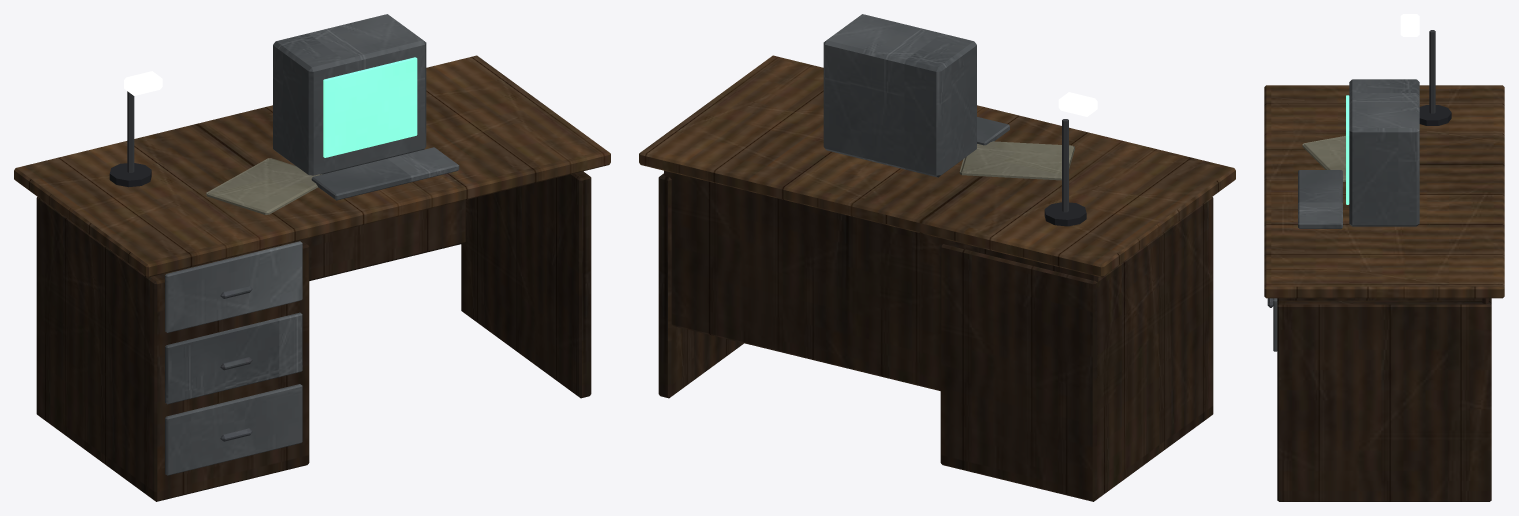
Rendered from desk_office.glb.
3 renders of one model, left to right at view 1: azimuth 30°, elevation 25°; view 2: azimuth 150°, elevation 25°; view 3: azimuth 270°, elevation 25°, orthographic. The views are drawn at different scales.
Parts seen in each view (by area): view 1: body; view 2: body; view 3: body.
Boxes of the visible parts, x1,y1,x2,y2 form: body: (14, 14, 610, 501); body: (639, 14, 1235, 501); body: (1264, 14, 1504, 501).
Bounding box in the file's own units: 1.5 × 1.1 × 0.75.
8 materials, 7 textured.
